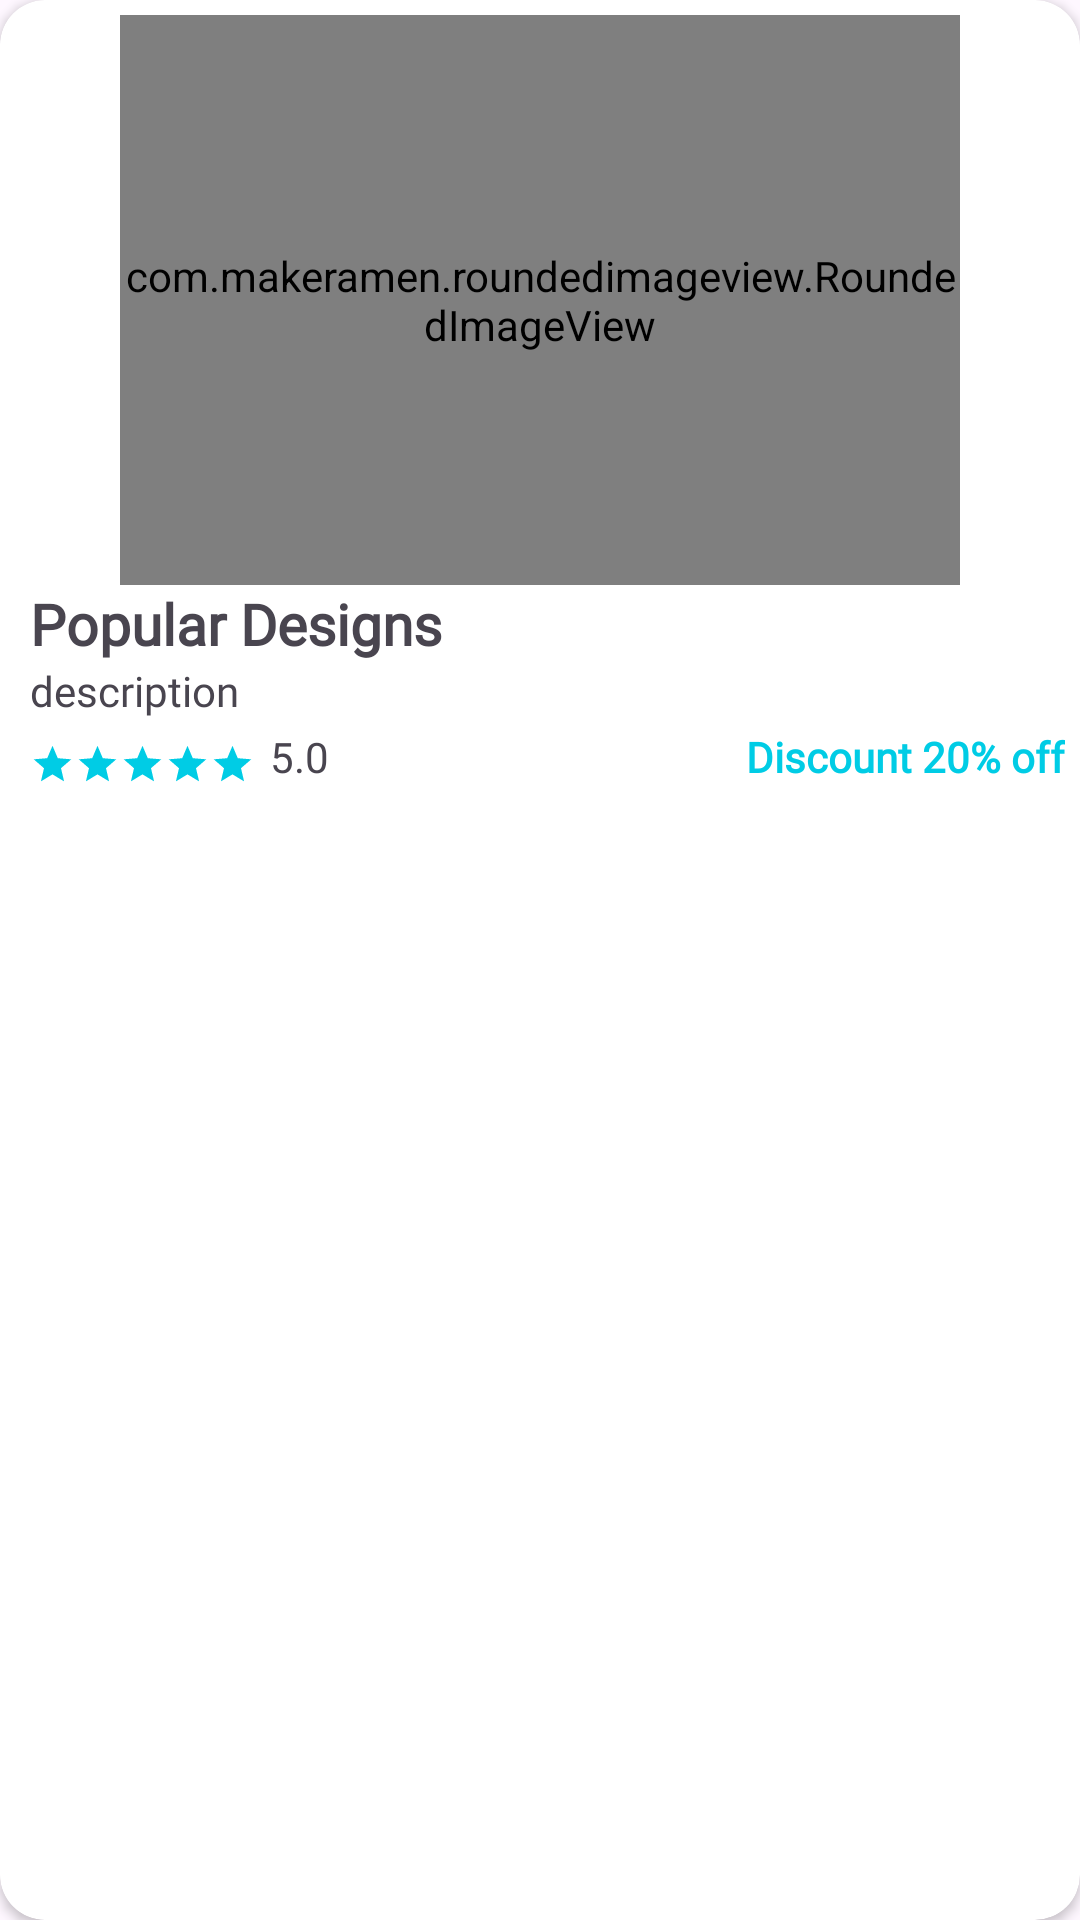

Icons on this 1080x1920 Android screen, each with the point to tap as point (x, y):
rating star: point (52, 763), point (97, 763), point (142, 763), point (187, 763), point (232, 763)
